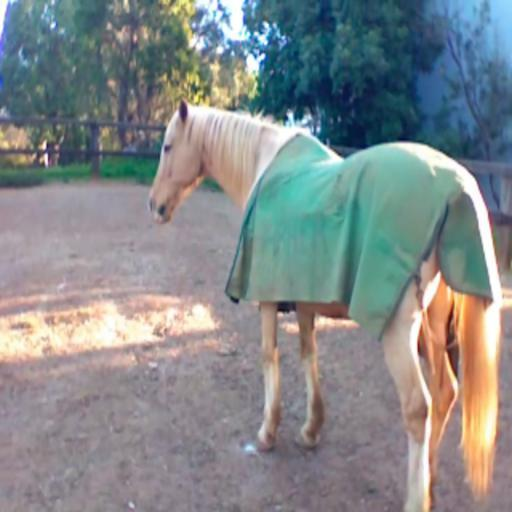horse: (147, 94, 498, 510)
